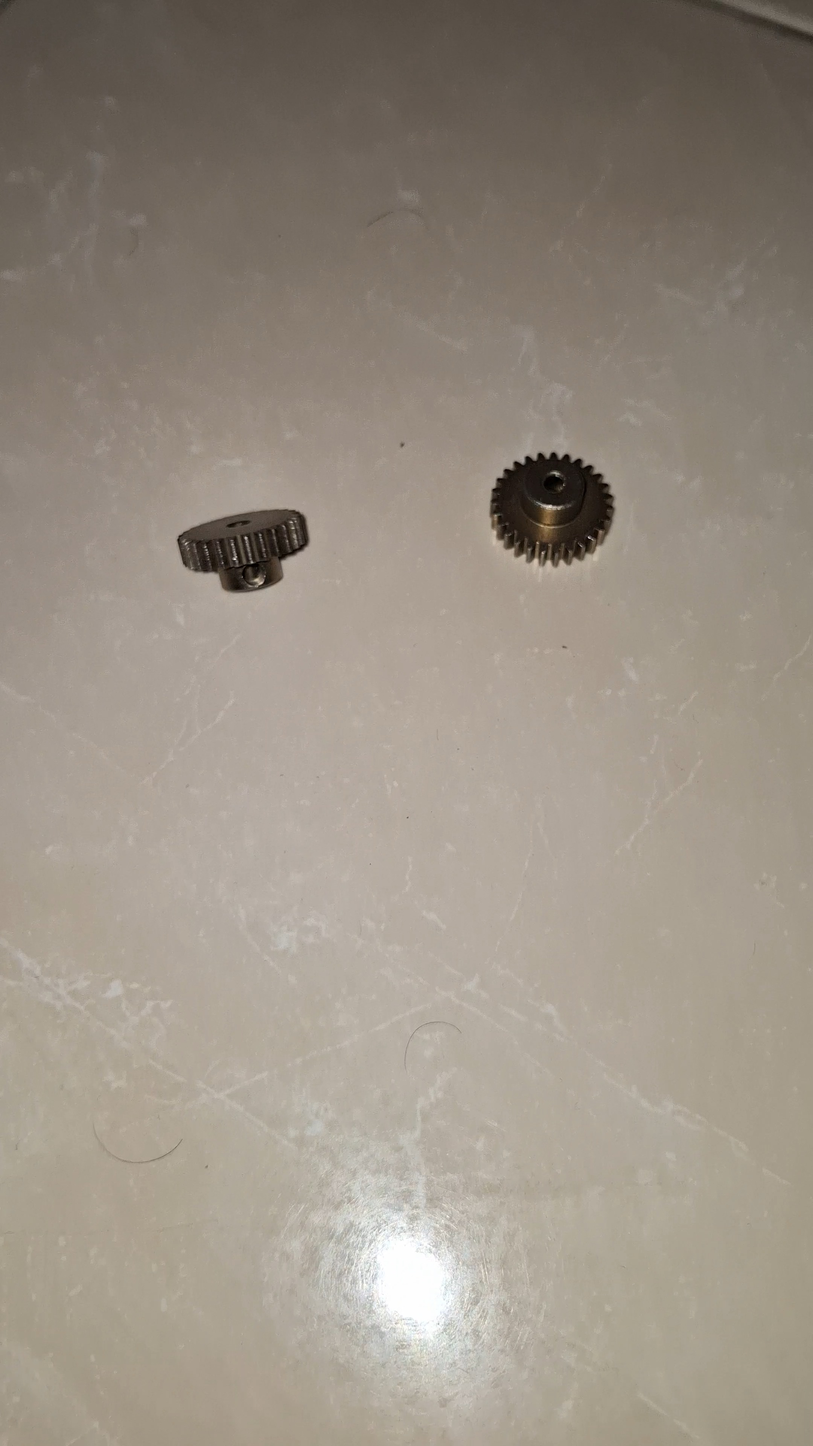spur gear: (490, 453, 613, 564), (178, 509, 308, 591)
